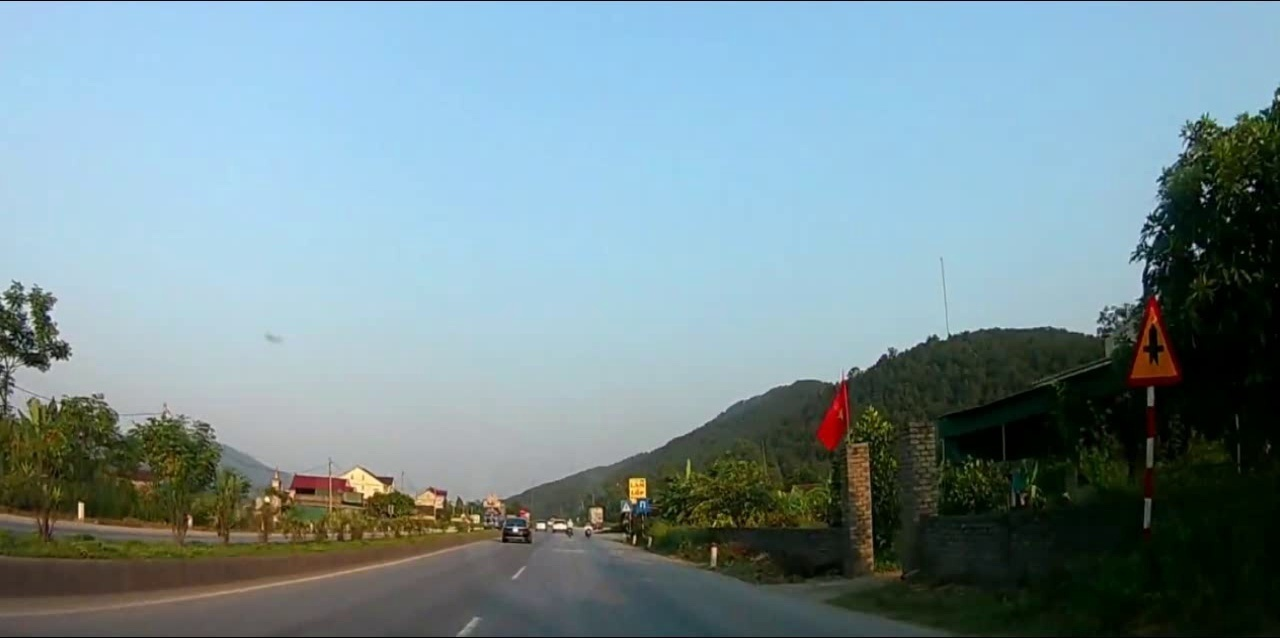Bien khac: (634, 498, 646, 512)
Giao nhau voi duong khong uu tien: (1126, 294, 1182, 385)
